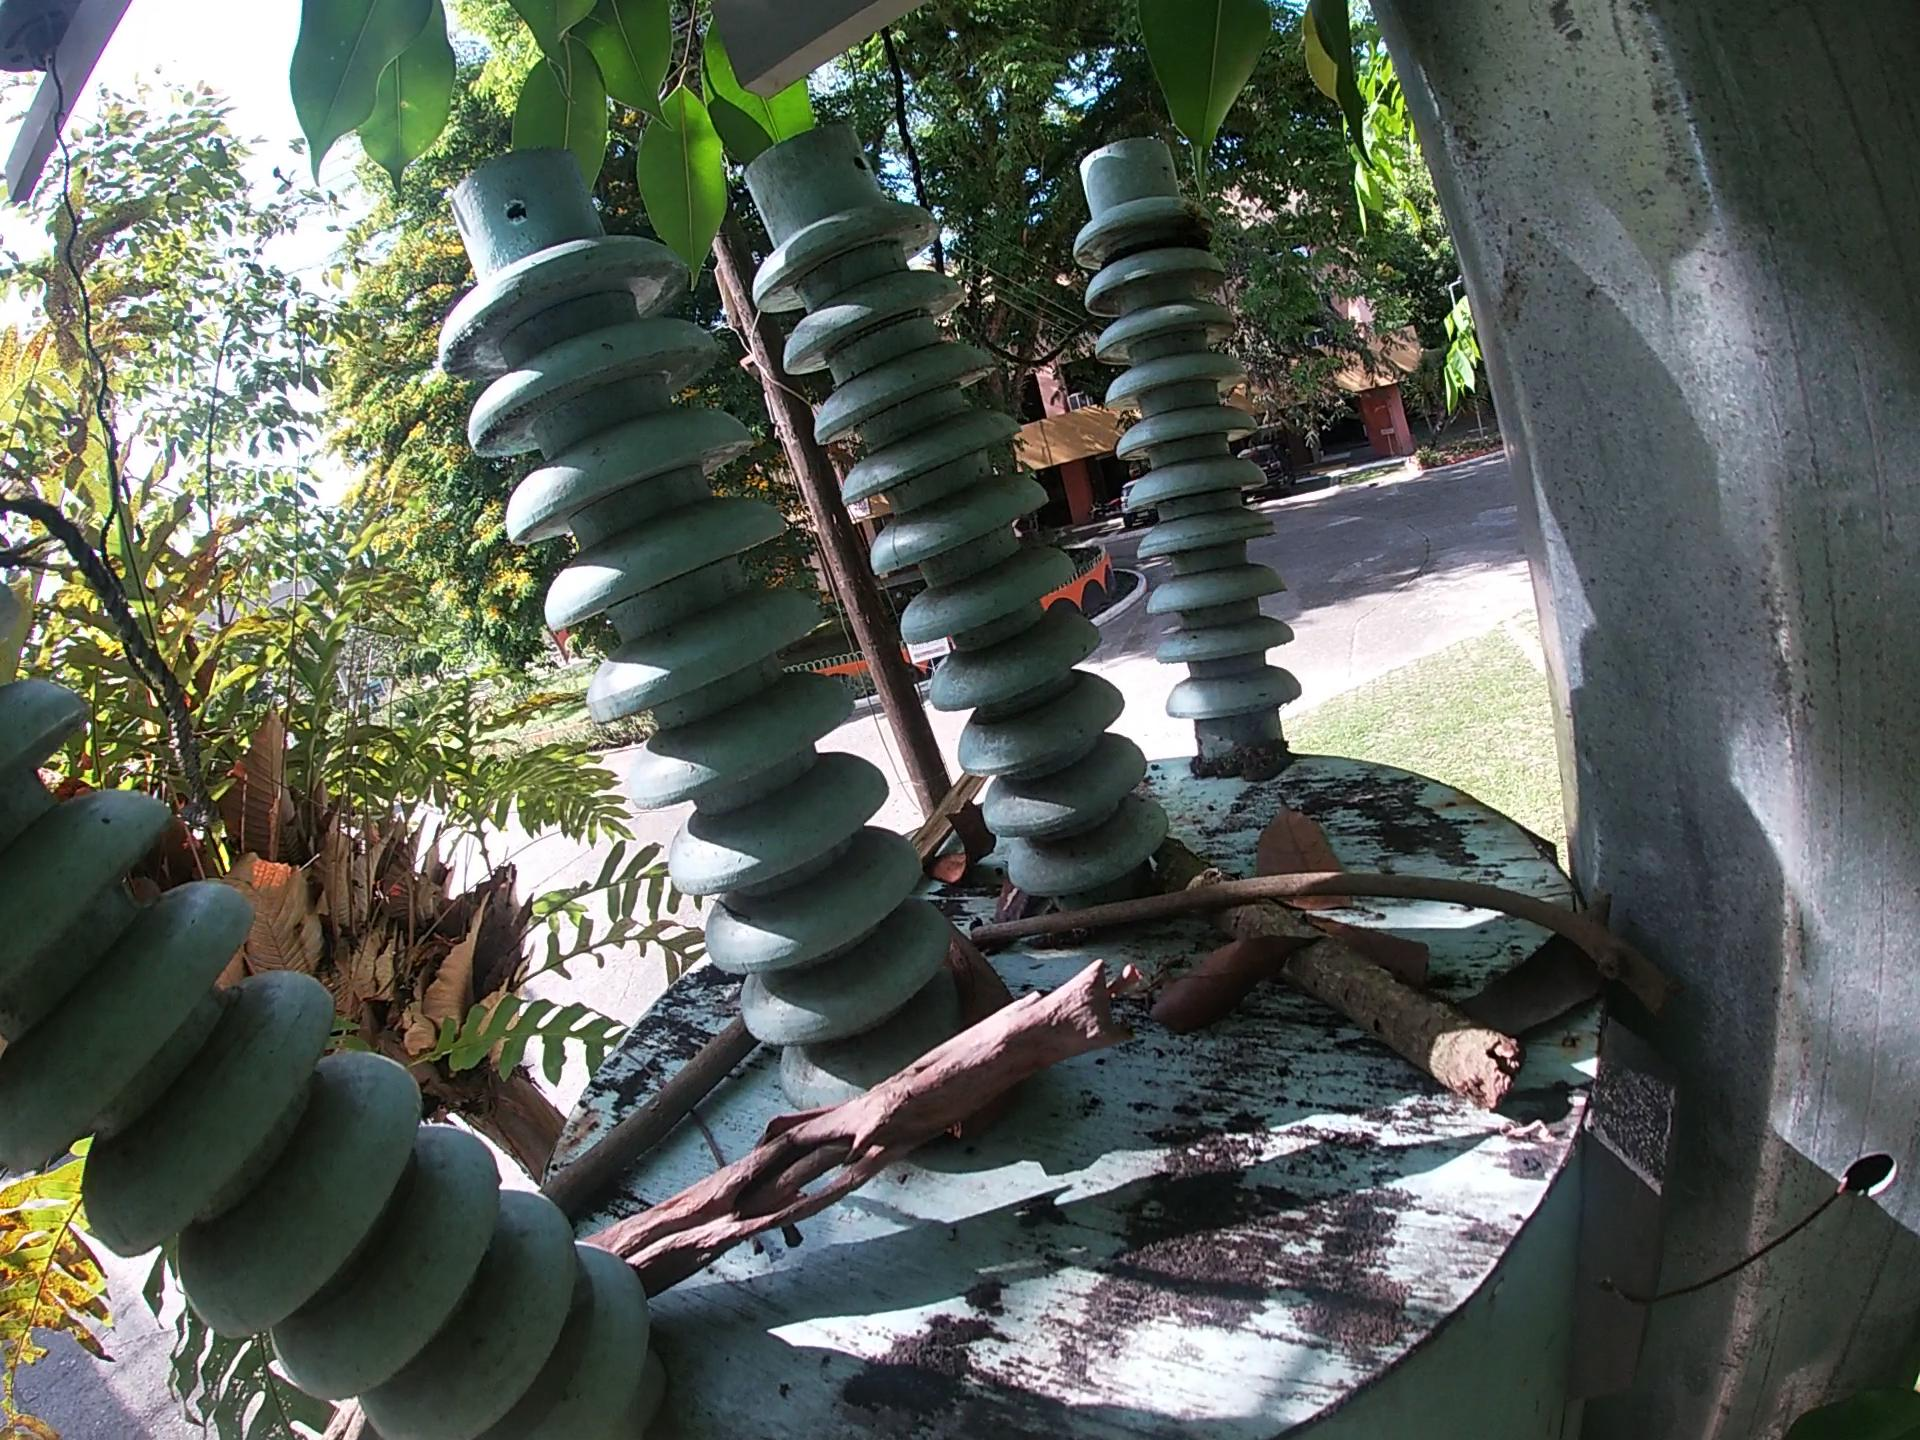leaf: (1454, 886, 1625, 1039), (1135, 917, 1327, 1042), (1250, 787, 1383, 924), (1317, 914, 1442, 992)
mahogany fruit: (943, 918, 1037, 1156), (921, 799, 1005, 892)
tree branch: (578, 945, 1143, 1296), (968, 859, 1689, 1026), (1149, 827, 1531, 1125), (540, 1010, 768, 1221)
